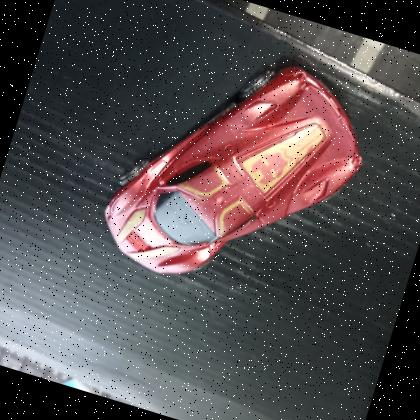Car: (86, 20, 388, 327)
